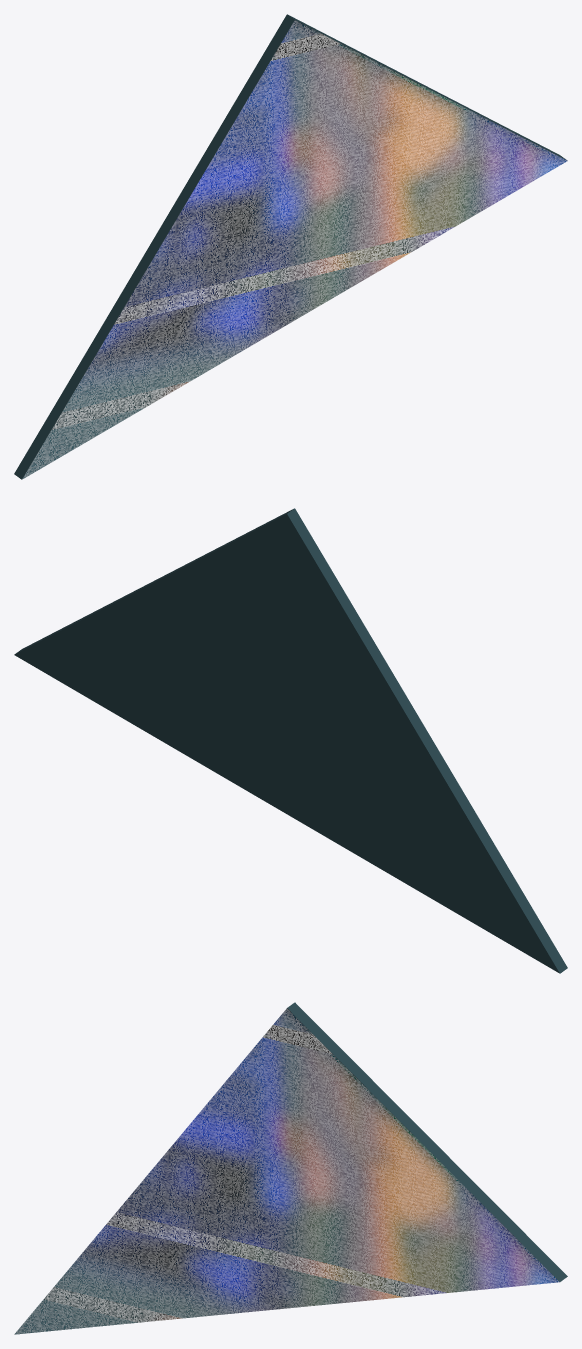
3 renders of one model, top to bottom at view 1: azimuth 30°, elevation 25°; view 2: azimuth 150°, elevation 25°; view 3: azimuth 330°, elevation 25°, orthographic.
Parts seen in each view (by area): view 1: Piece_02; view 2: Piece_02; view 3: Piece_02.
Boxes of the visible parts, x1=… form: Piece_02: x1=14, y1=14, x2=567, y2=479; Piece_02: x1=14, y1=508, x2=567, y2=973; Piece_02: x1=14, y1=1002, x2=567, y2=1334.
Bounding box in the file's own units: 1 × 0.6882 × 0.025.
Materials: 2 (1 with a texture image).
